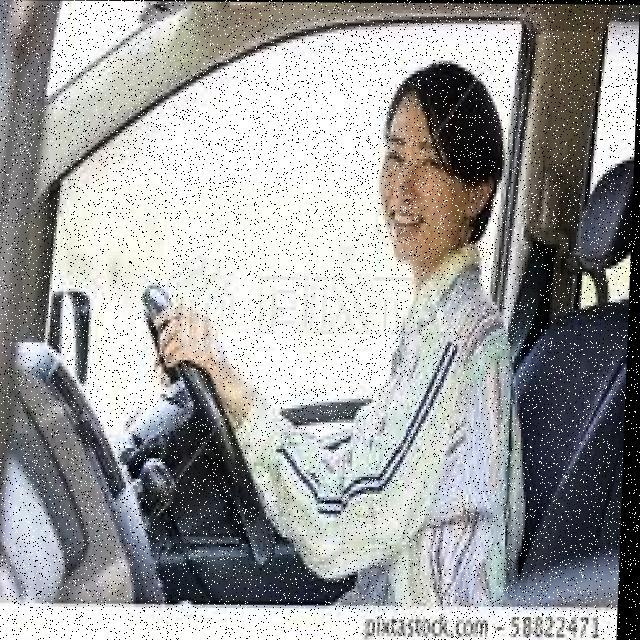noSeatbelt: (332, 230, 574, 596)
